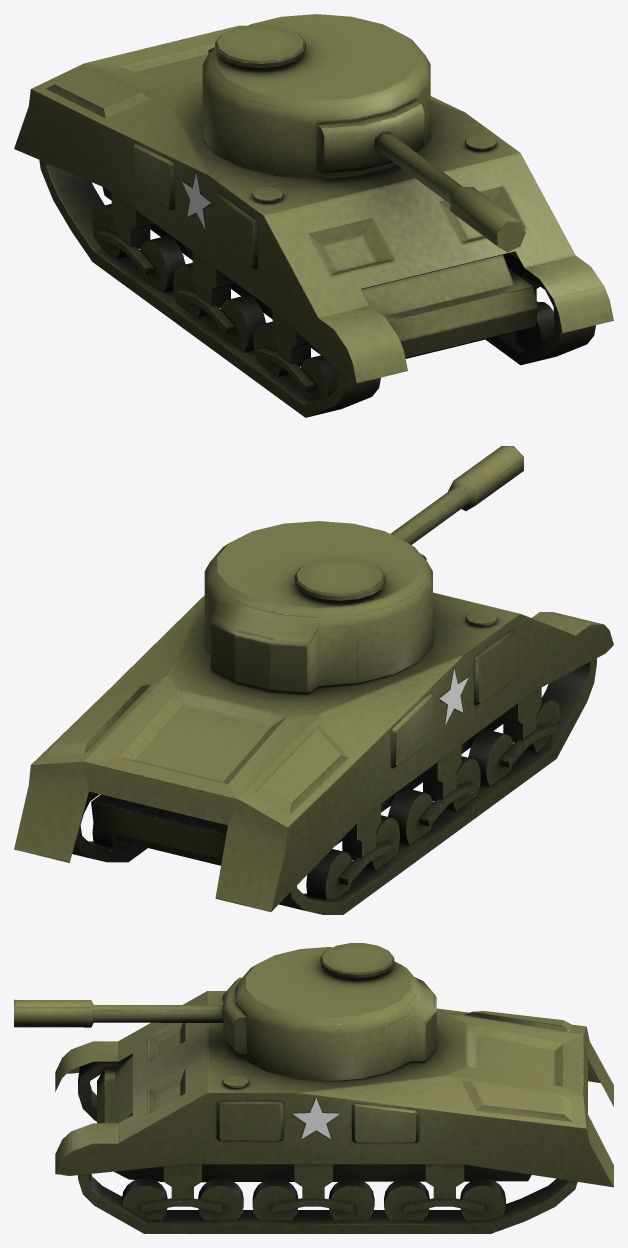
File: tank.FBX
3 views of the same model, one above another, from view 1: azimuth 30°, elevation 25°; view 2: azimuth 150°, elevation 25°; view 3: azimuth 270°, elevation 25° (orthographic). The views are drawn at different scales.
Visible parts, largest first — view 1: tank, tank_weapon; view 2: tank, tank_weapon; view 3: tank, tank_weapon.
Boxes of the visible parts, bbox=[...] form: tank: bbox=[14, 25, 613, 417]; tank_weapon: bbox=[202, 14, 525, 252]; tank: bbox=[14, 592, 613, 914]; tank_weapon: bbox=[204, 446, 523, 692]; tank: bbox=[55, 991, 613, 1233]; tank_weapon: bbox=[14, 943, 436, 1081].
Size of the model in its own units: 140 by 131 by 339.
1 material, 1 textured.
